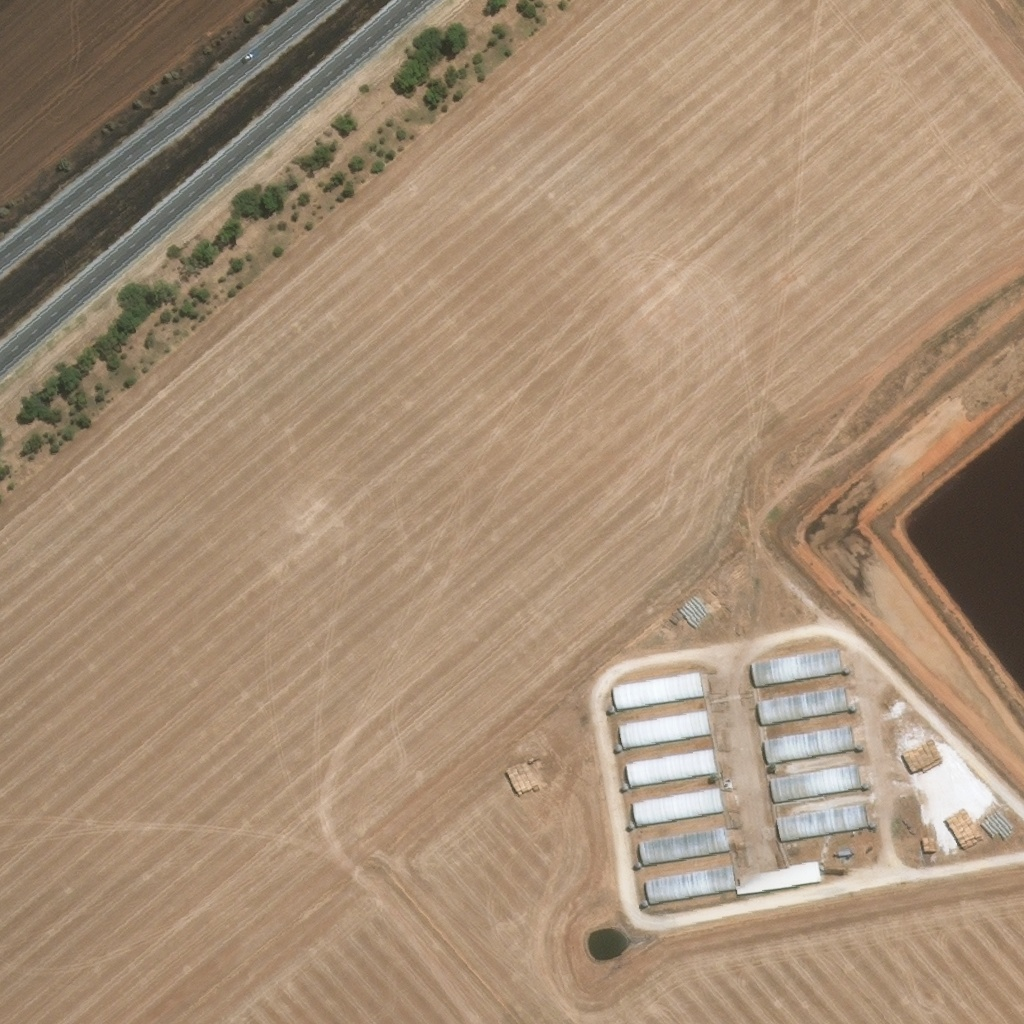0 no-damage: (639, 827, 731, 866), (627, 750, 717, 789), (646, 866, 736, 905), (613, 673, 705, 711), (764, 726, 856, 764), (620, 712, 711, 750), (752, 650, 843, 688), (633, 789, 723, 827), (758, 688, 848, 726), (779, 805, 865, 843), (772, 766, 859, 803), (737, 862, 821, 896), (837, 851, 852, 857), (849, 703, 857, 711), (609, 706, 616, 714), (642, 900, 649, 907), (857, 744, 864, 751), (616, 744, 622, 751), (629, 823, 635, 830), (636, 862, 642, 869), (623, 785, 629, 791), (844, 667, 850, 673), (864, 784, 870, 790), (869, 823, 875, 828)
